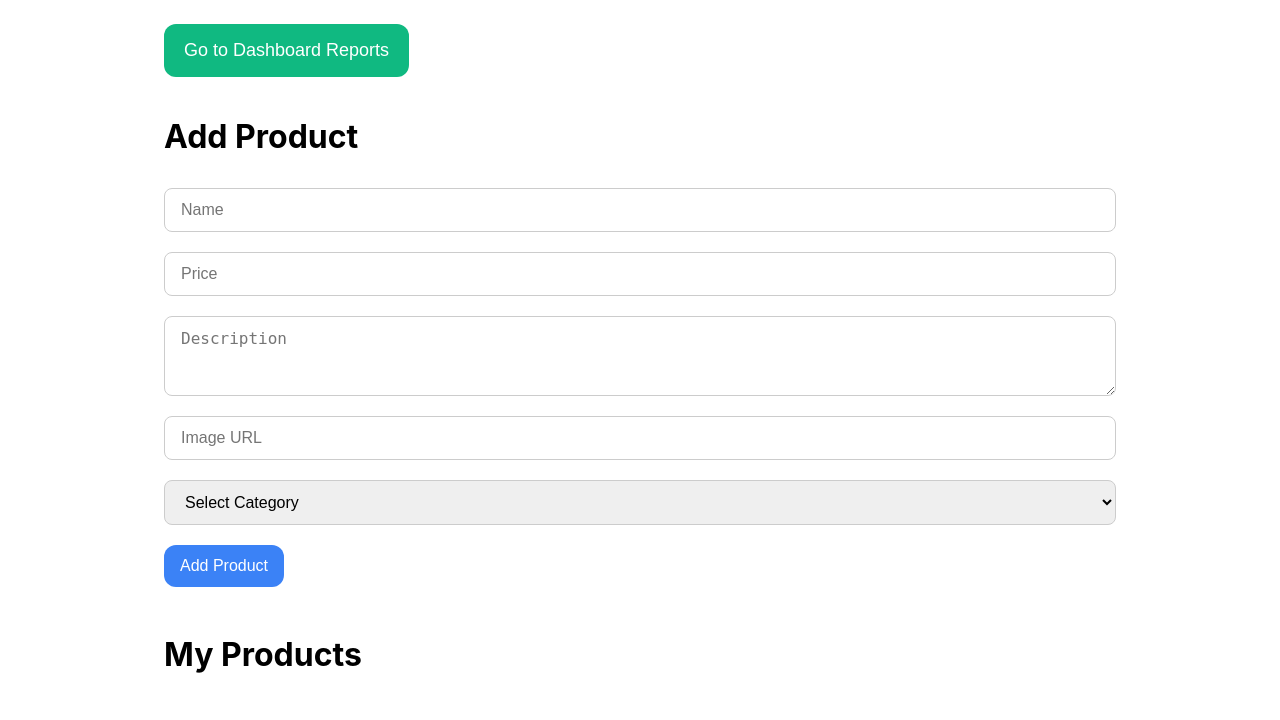
Scenario: Given seller is not logged in, When clicking Add Product, Then show login error
This screenshot has width=1280, height=720.
In the field with placeholder "Name": (640, 210) [164,188,1116,232], type "X"
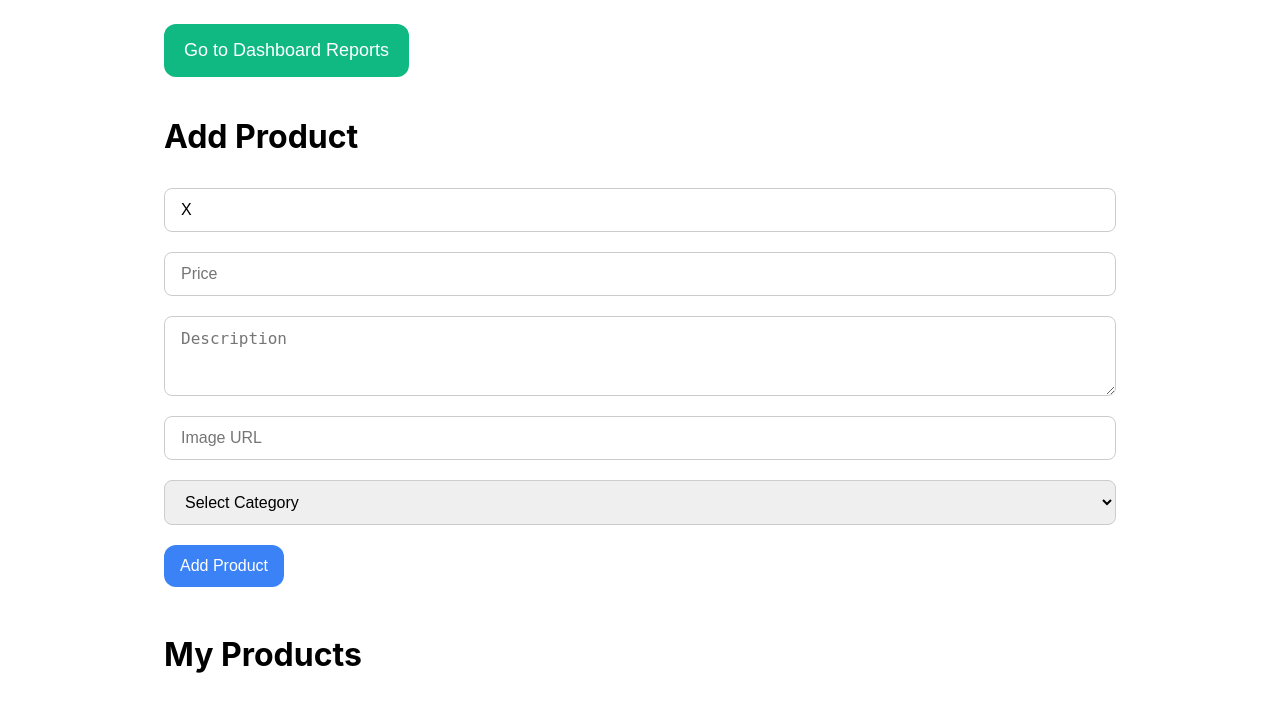
In the number field with placeholder "Price": (640, 274) [164,252,1116,296], type "1"
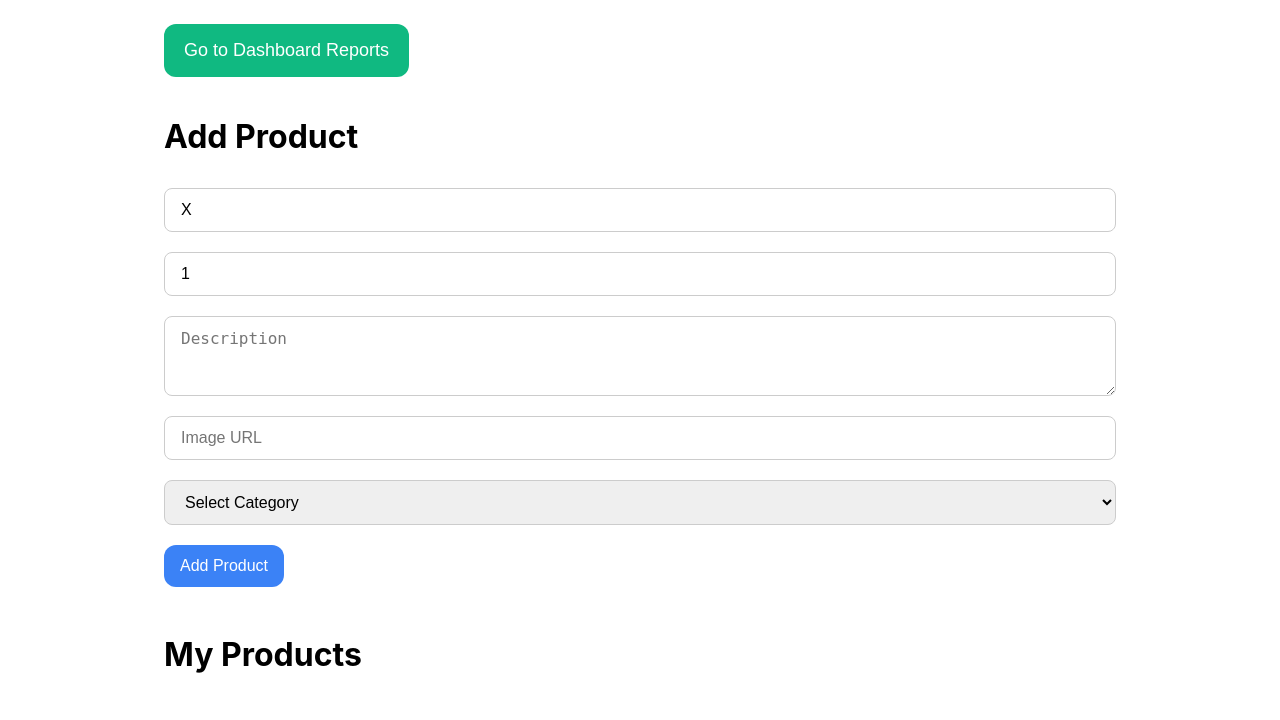
In the text box with placeholder "Description": (640, 356) [164,316,1116,396], type "D"
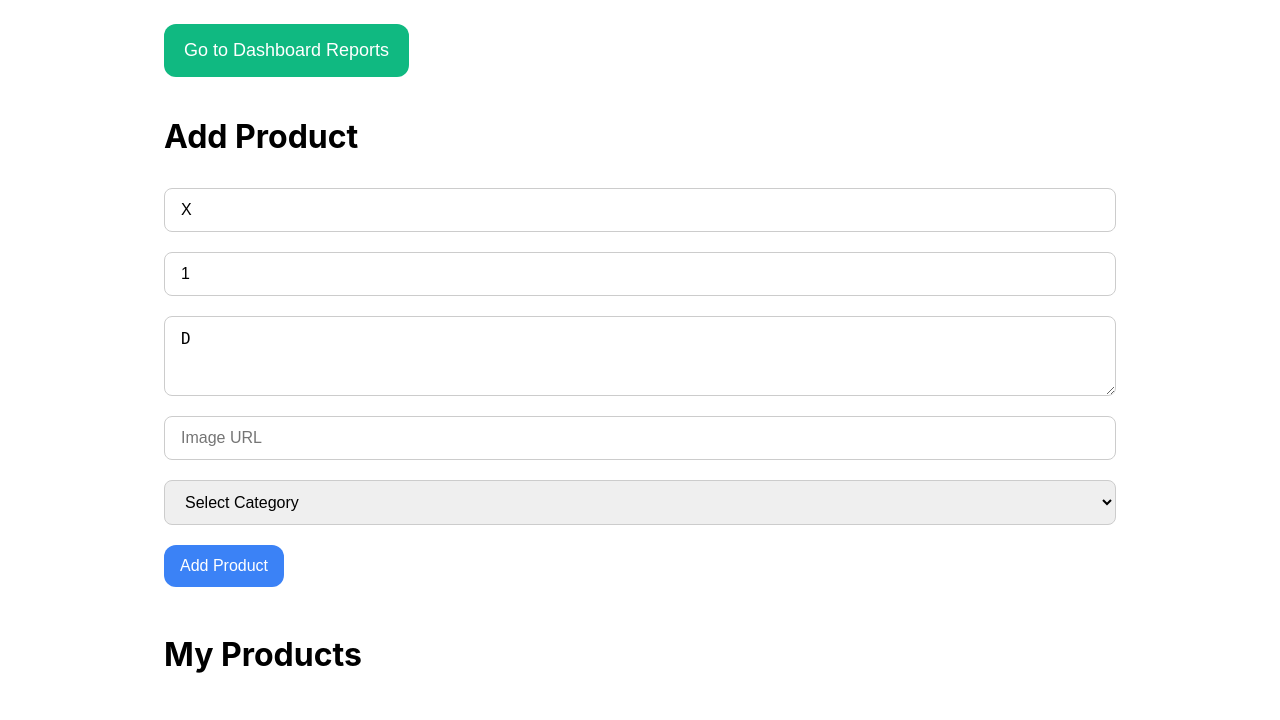
In the field with placeholder "Image URL": (640, 438) [164,416,1116,460], type "U"
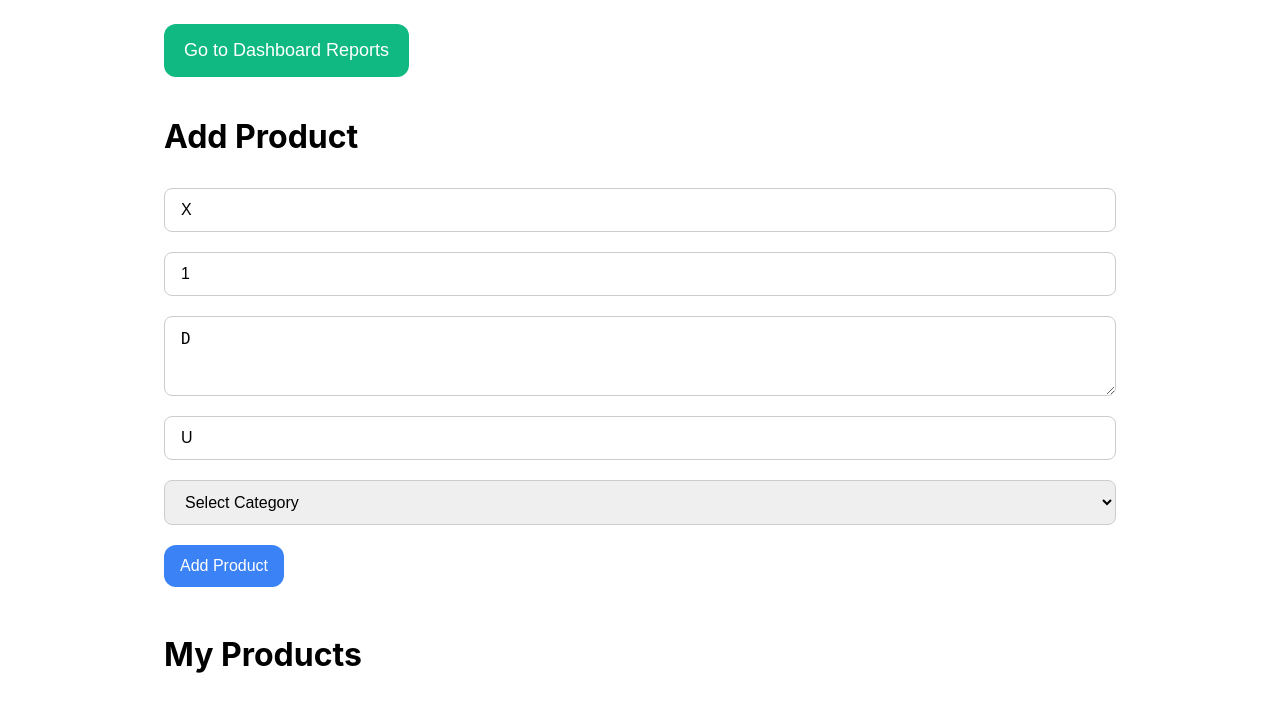
Select "Jewelry" in the dropdown: (640, 502) [164,480,1116,525]
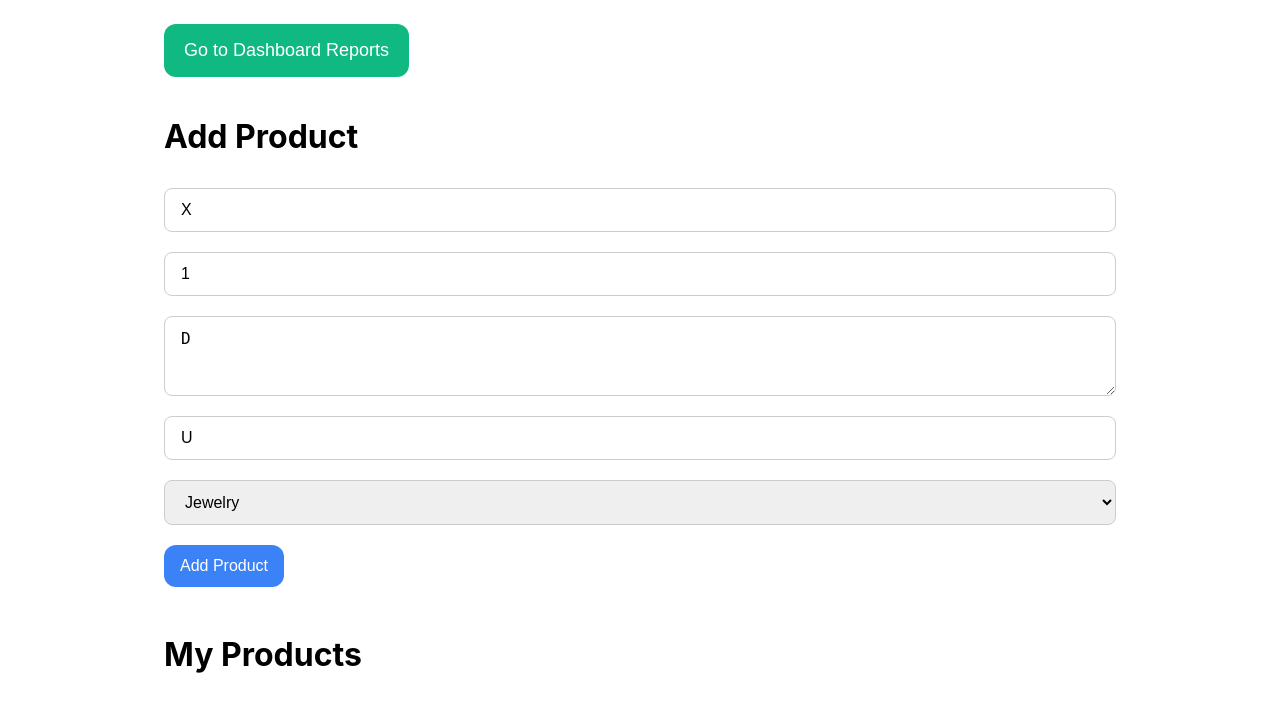
Click the button "Add Product": (224, 566) [164,545,284,587]
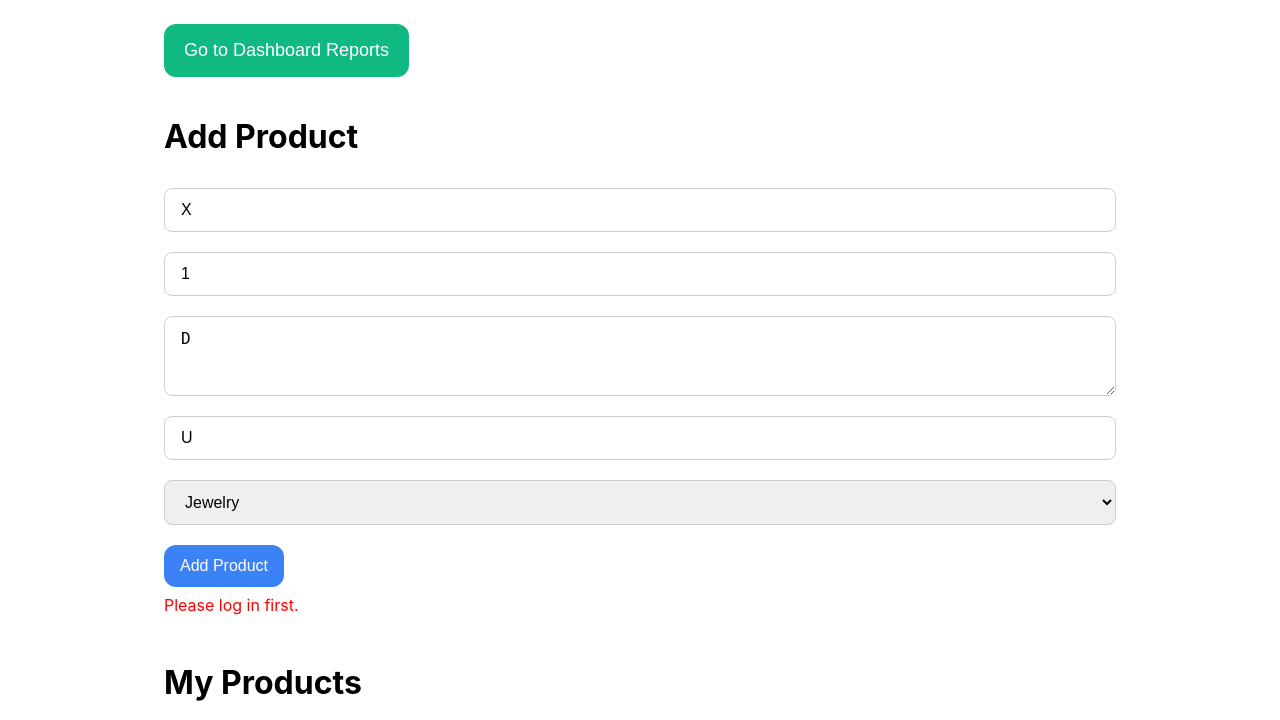
Check: the text "Please log in first." is shown, box [164,595,299,615]
